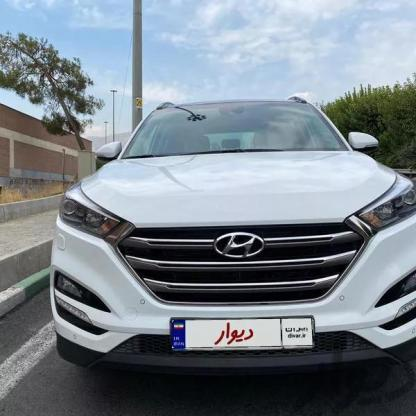Car: (46, 90, 416, 372)
